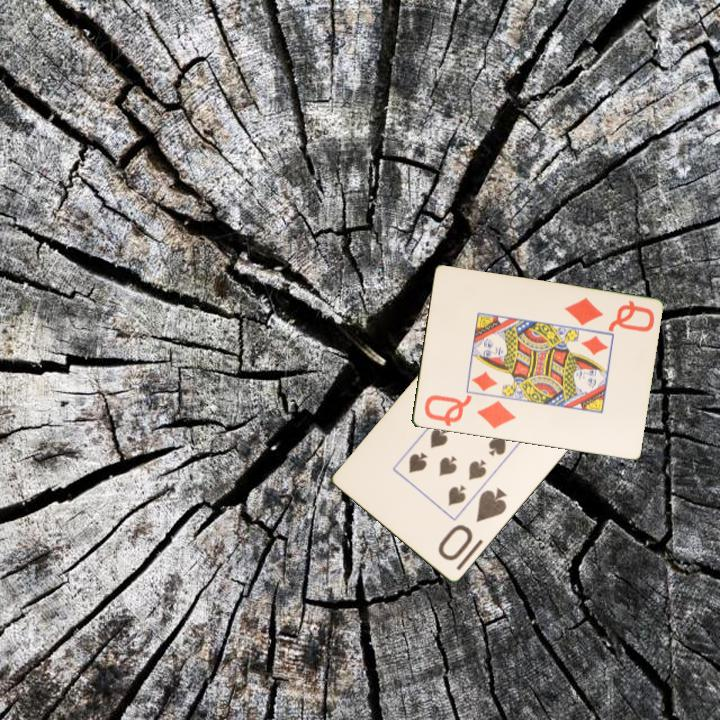10s: (434, 484, 510, 564)
Qd: (420, 391, 518, 432), (560, 294, 657, 335)
